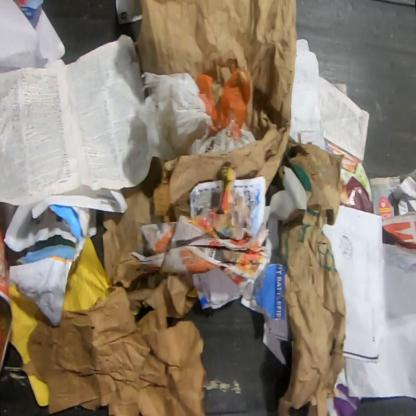cardboard: (288, 38, 327, 150), (324, 138, 374, 214)
soft_plastic: (134, 68, 258, 162)
